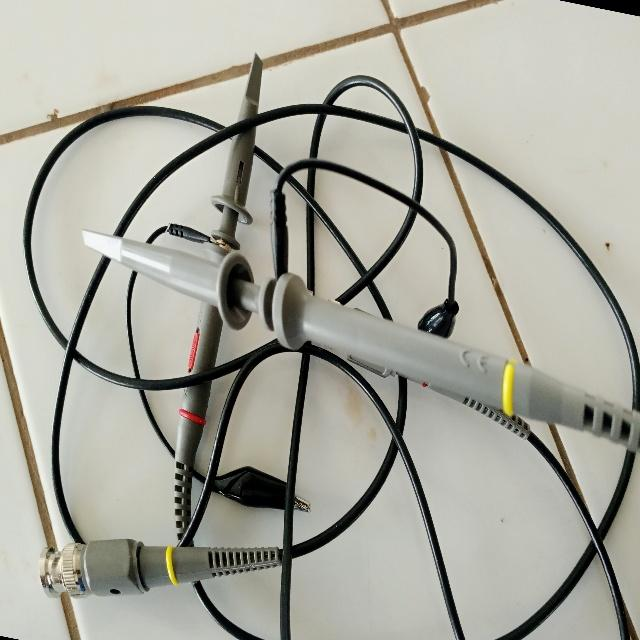CRO Probes: (2, 0, 601, 640)
